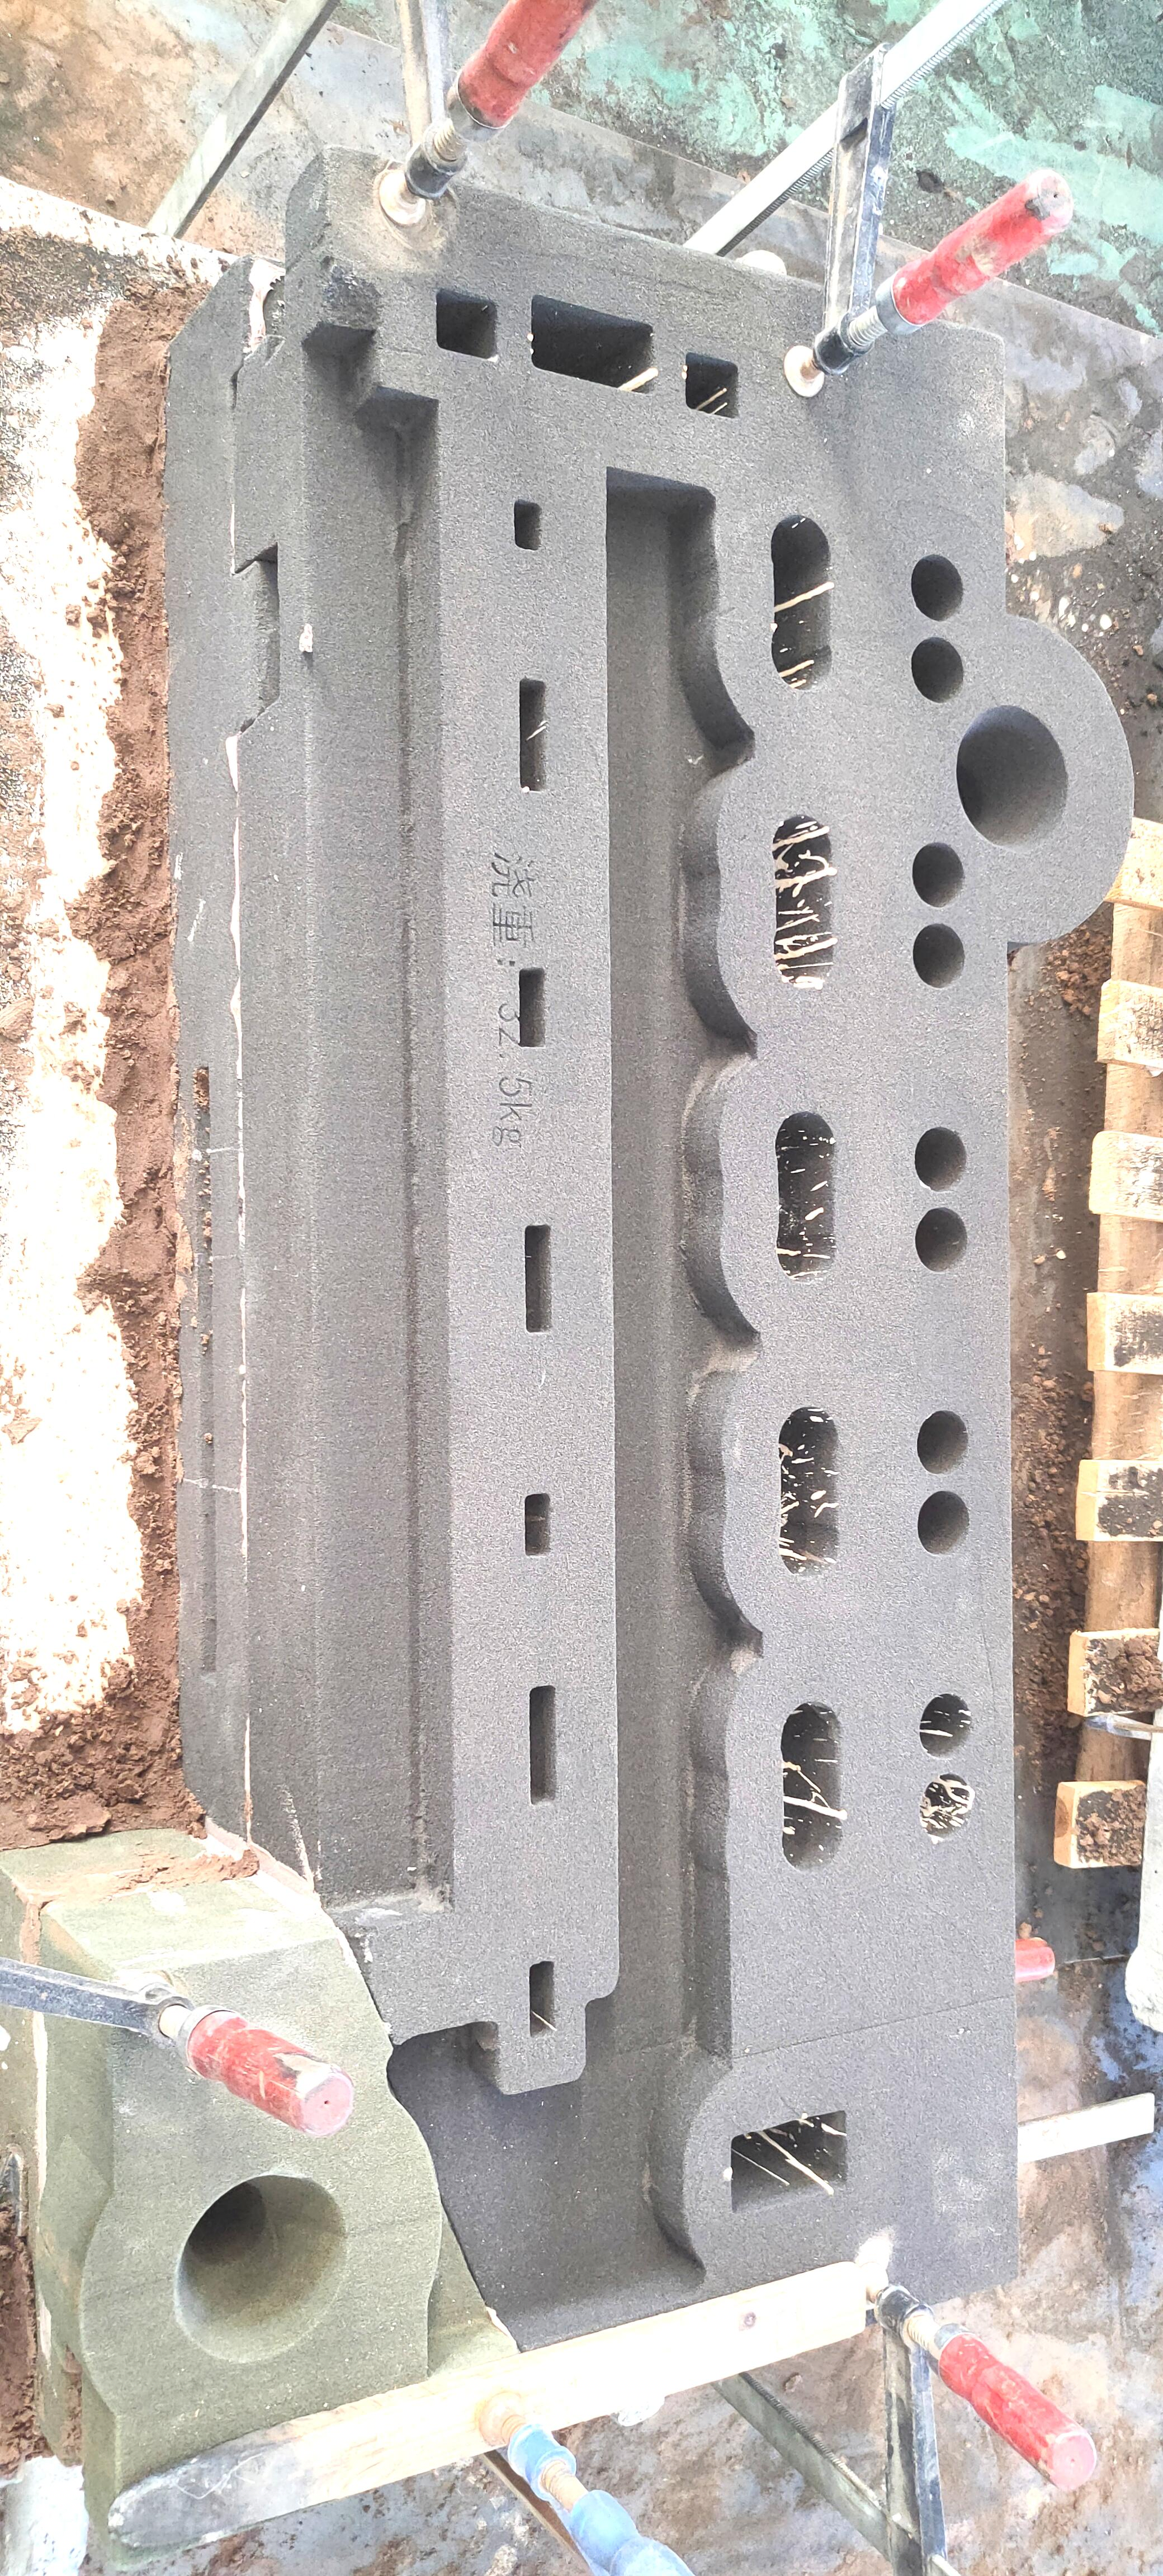pouring hole: (174, 2173, 347, 2361), (958, 703, 1068, 851)
